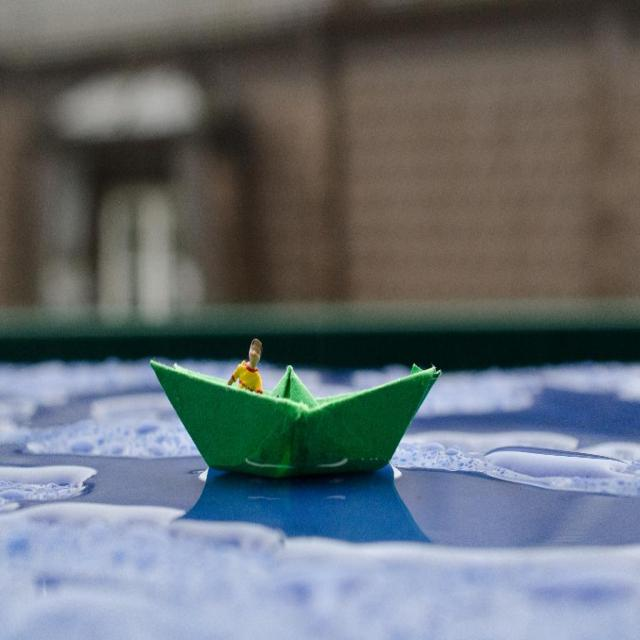Boat: (145, 355, 454, 484)
